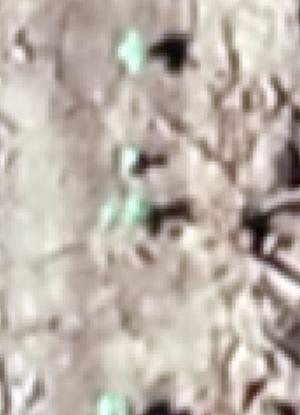cotton: (105, 203, 145, 226), (119, 33, 142, 69), (123, 147, 138, 169)
